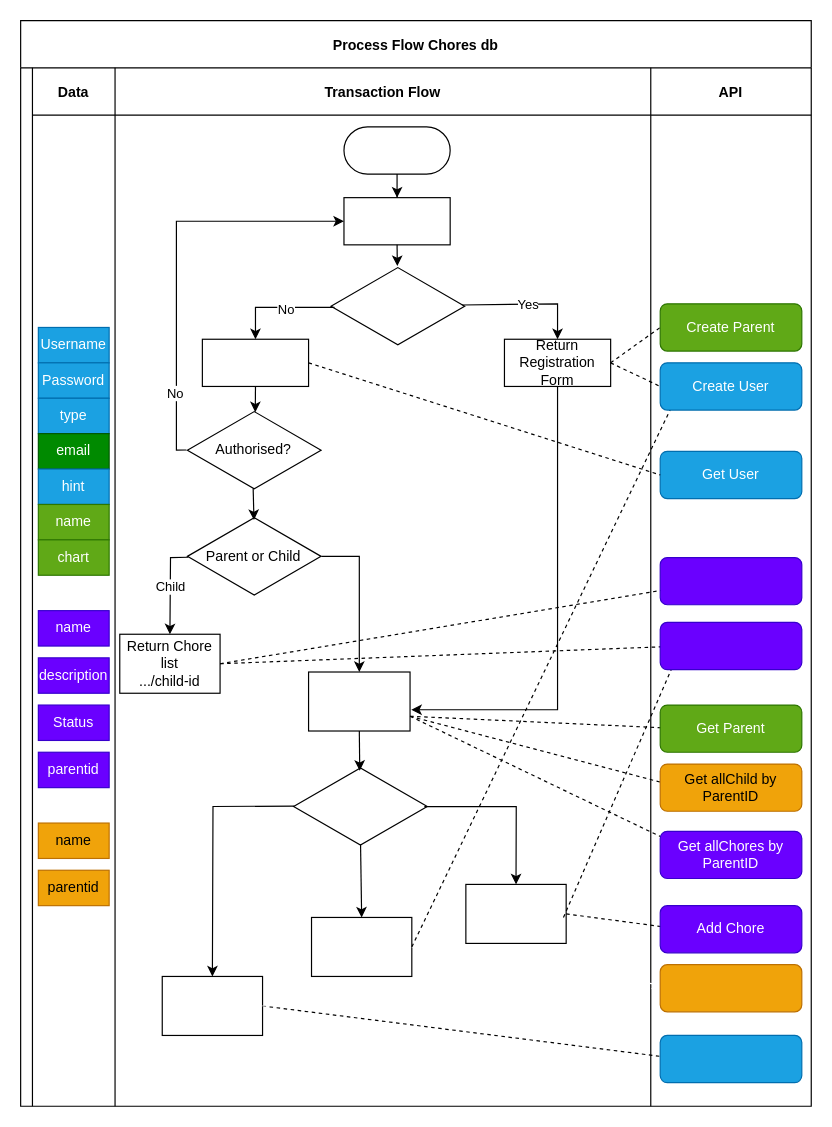
This 832x1127 diagram has some shape labels left out. Each missing label, with the centre of its shape:
"Actions Buttons" belongs at (x=359, y=806).
"Add/Amend Child" belongs at (x=361, y=946).
"Add/Amend Chores" belongs at (x=515, y=913).
"Amend User" belongs at (x=730, y=1058).
"Amend User Details" belongs at (x=212, y=1005).
"Get child by child ID" belongs at (x=730, y=987).
"Get Chores by Child/id" belongs at (x=730, y=580).
"Landing Page" belongs at (x=396, y=220).
"Register (Y/N)" belongs at (x=397, y=305).
"Return Parent Dashboard" belongs at (x=358, y=701).
"Start (URL)" belongs at (x=396, y=150).
"Update Chores by Chore/id" belongs at (x=730, y=645).
"Validate/Auth User/Password" belongs at (x=255, y=362).
